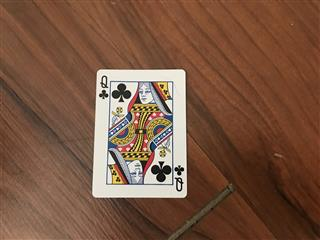QueenOfClubs: (90, 67, 188, 198)
